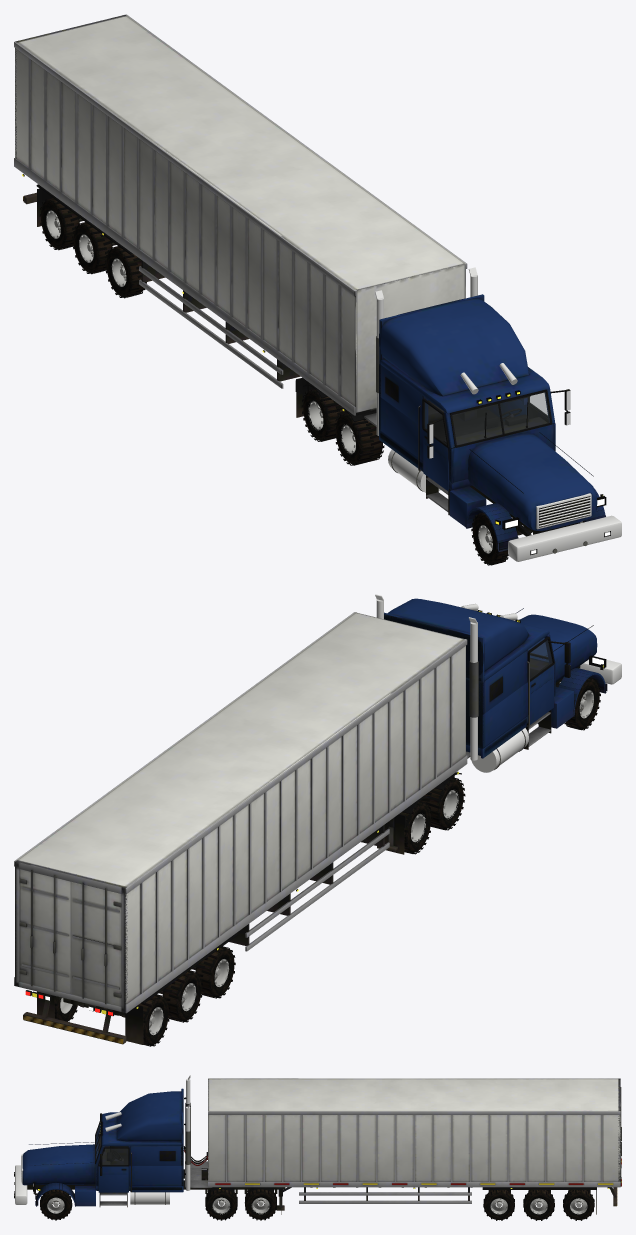
Rendered from semi-truck-v1-lod0.glb.
The picture shows the model from 3 angles, top to bottom: view 1: azimuth 30°, elevation 25°; view 2: azimuth 150°, elevation 25°; view 3: azimuth 270°, elevation 25°; orthographic projection. The views are drawn at different scales.
Parts seen in each view (by area): view 1: trailer_mesh, body, fittings, wheel_MR_mesh, wheel_RR_mesh, trailer_wheel_1R_mesh, trailer_wheel_3R_mesh, trailer_wheel_2R_mesh, door_R_mesh, wheel_FR_mesh; view 2: trailer_mesh, body, door_rear_L_mesh, door_rear_R_mesh, fittings, wheel_MR_mesh, trailer_wheel_2R_mesh, trailer_wheel_1R_mesh, door_R_mesh, wheel_RR_mesh, trailer_wheel_3R_mesh, wheel_FR_mesh; view 3: trailer_mesh, body, fittings, door_L_mesh, wheel_ML_mesh, wheel_RL_mesh, wheel_FL_mesh, trailer_wheel_2L_mesh, trailer_wheel_3L_mesh, trailer_wheel_1L_mesh, door_L_fittings.
Part boxes in pixels (x1,y1,x2,y2): trailer_mesh: (14,14,467,415); body: (296,294,610,555); fittings: (375,267,621,561); wheel_MR_mesh: (334,412,384,465); wheel_RR_mesh: (301,389,346,441); trailer_wheel_1R_mesh: (105,246,146,298); trailer_wheel_3R_mesh: (39,198,79,250); trailer_wheel_2R_mesh: (72,222,112,274); door_R_mesh: (422,398,449,491); wheel_FR_mesh: (471,512,508,565); trailer_mesh: (14,612,467,1044); body: (377,598,607,854); door_rear_L_mesh: (19,869,70,993); door_rear_R_mesh: (71,881,121,1006); fittings: (375,594,621,772); wheel_MR_mesh: (420,777,465,830); trailer_wheel_2R_mesh: (162,970,202,1022); trailer_wheel_1R_mesh: (195,946,235,998); door_R_mesh: (527,637,554,724); wheel_RR_mesh: (399,801,432,854); trailer_wheel_3R_mesh: (137,994,169,1046); wheel_FR_mesh: (564,677,600,730); trailer_mesh: (206,1078,621,1214); body: (14,1088,285,1214); fittings: (14,1075,190,1204); door_L_mesh: (98,1147,129,1192); wheel_ML_mesh: (205,1189,237,1220); wheel_RL_mesh: (244,1189,276,1220); wheel_FL_mesh: (40,1189,72,1220); trailer_wheel_2L_mesh: (523,1190,554,1220); trailer_wheel_3L_mesh: (563,1190,594,1220); trailer_wheel_1L_mesh: (483,1190,514,1220); door_L_fittings: (102,1149,127,1164).
Size of the model in its own units: 3.27 by 4.21 by 20.03.
Materials: 11 (2 with a texture image).
